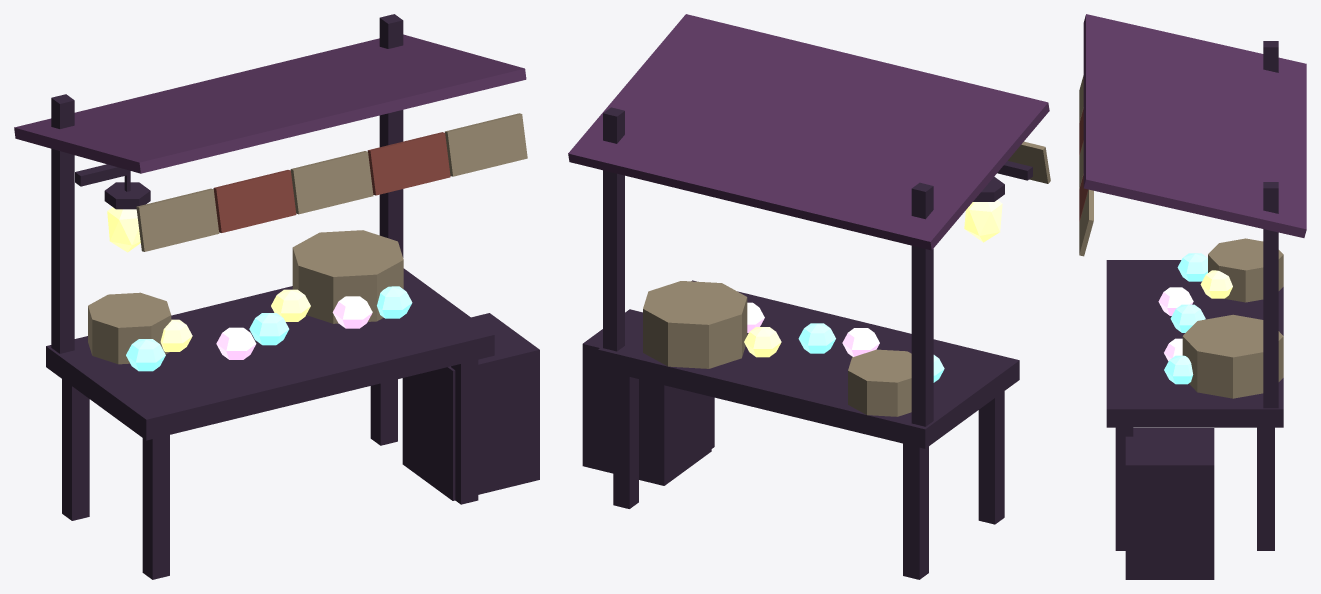
Rendered from etal_modele.glb.
3 renders of one model, left to right at view 1: azimuth 30°, elevation 25°; view 2: azimuth 150°, elevation 25°; view 3: azimuth 270°, elevation 25°, orthographic. The views are drawn at different scales.
Visible parts, largest first — view 1: P1.009, P8.010, P23.011, P21.009, P6.010, P22.009, P2.009, P9.010, P12.011, P13.011, P11.011, P10.003 (+14 smaller); view 2: P8.010, P1.009, P23.011, P21.009, P6.010, P7.010, P22.009, P3.004, P5.003, P2.009, P26.010, P9.010 (+3 smaller); view 3: P8.010, P1.009, P23.011, P21.009, P7.010, P22.009, P5.003, P4.011, P14.012, P15.009, P13.011, P20.009 (+4 smaller).
Part boxes in pixels (bbox=[...]): P1.009: bbox=[46, 268, 494, 440]; P8.010: bbox=[14, 34, 526, 173]; P23.011: bbox=[402, 313, 539, 500]; P21.009: bbox=[292, 230, 403, 323]; P6.010: bbox=[51, 94, 74, 353]; P22.009: bbox=[88, 292, 171, 364]; P2.009: bbox=[142, 435, 169, 579]; P9.010: bbox=[136, 188, 219, 251]; P12.011: bbox=[367, 132, 450, 195]; P13.011: bbox=[445, 113, 527, 176]; P11.011: bbox=[290, 151, 373, 214]; P10.003: bbox=[213, 170, 296, 232]; P8.010: bbox=[568, 14, 1049, 250]; P1.009: bbox=[598, 280, 1019, 448]; P23.011: bbox=[582, 309, 711, 485]; P21.009: bbox=[643, 281, 747, 368]; P6.010: bbox=[911, 182, 933, 426]; P7.010: bbox=[603, 107, 624, 351]; P22.009: bbox=[848, 349, 911, 416]; P3.004: bbox=[903, 443, 928, 579]; P5.003: bbox=[613, 373, 638, 508]; P2.009: bbox=[978, 391, 1004, 524]; P26.010: bbox=[964, 200, 1002, 242]; P9.010: bbox=[1008, 141, 1050, 183]; P8.010: bbox=[1083, 14, 1306, 237]; P1.009: bbox=[1106, 260, 1283, 427]; P23.011: bbox=[1125, 428, 1214, 579]; P21.009: bbox=[1182, 314, 1283, 398]; P7.010: bbox=[1263, 182, 1278, 408]; P22.009: bbox=[1208, 238, 1283, 302]; P5.003: bbox=[1257, 427, 1274, 550]; P4.011: bbox=[1115, 427, 1133, 550]; P14.012: bbox=[1177, 253, 1207, 281]; P15.009: bbox=[1200, 270, 1232, 298]; P13.011: bbox=[1079, 189, 1093, 256]; P20.009: bbox=[1164, 355, 1193, 384].
Size of the model in its own units: 1.78 by 1.68 by 0.9005.
